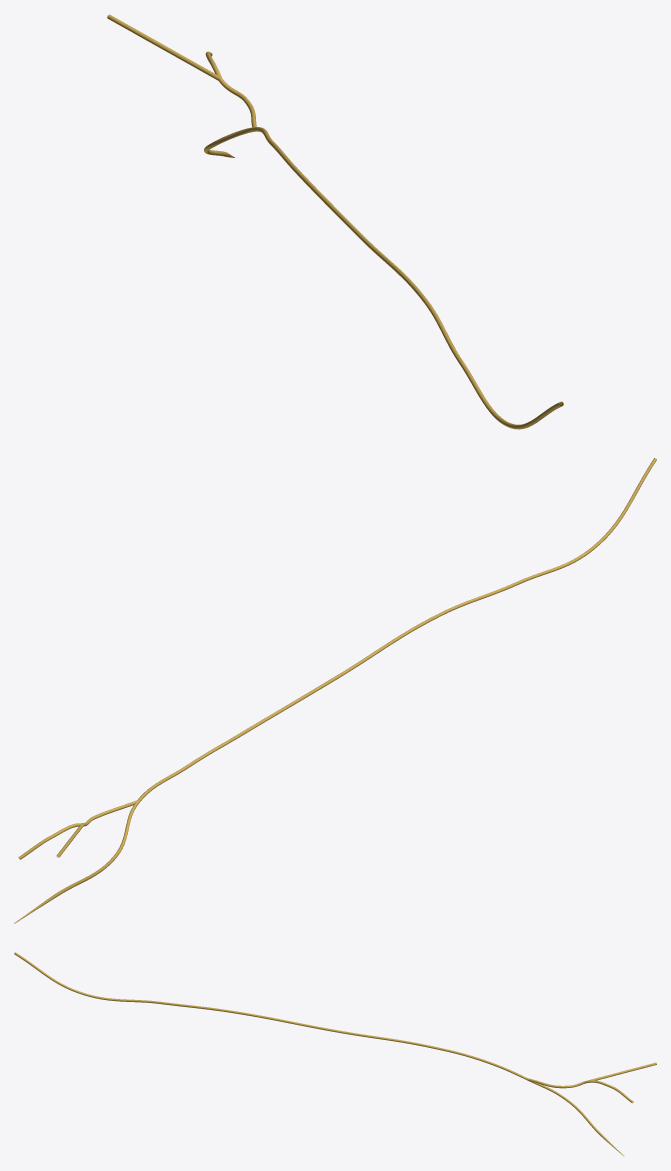
3 views of the same model, one above another, from view 1: azimuth 30°, elevation 25°; view 2: azimuth 150°, elevation 25°; view 3: azimuth 270°, elevation 25° (orthographic). The views are drawn at different scales.
Parts seen in each view (by area): view 1: 左侧桡神经浅支; view 2: 左侧桡神经浅支; view 3: 左侧桡神经浅支.
Part boxes in pixels (x1,y1,x2,y2): 左侧桡神经浅支: (107,14,563,429); 左侧桡神经浅支: (14,458,656,923); 左侧桡神经浅支: (14,952,656,1156).
Bounding box in the file's own units: 0.1013 × 0.092 × 0.3956.
